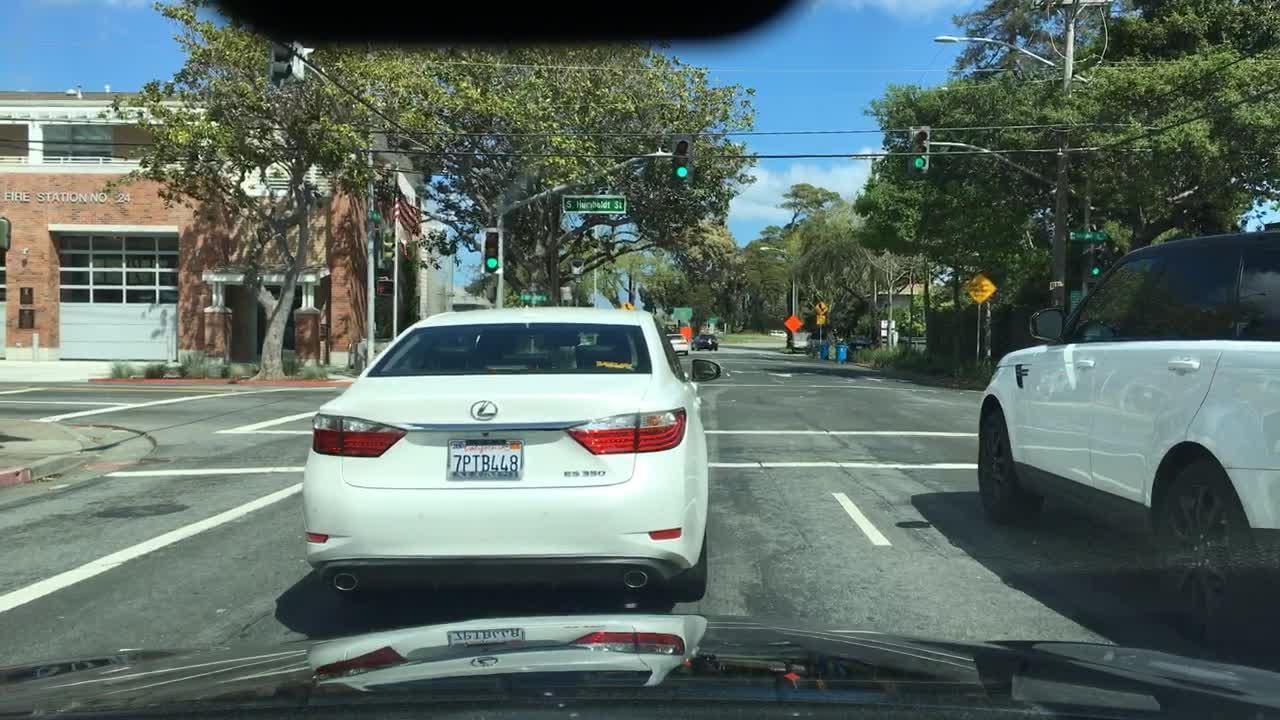lexus: (461, 392, 516, 427)
